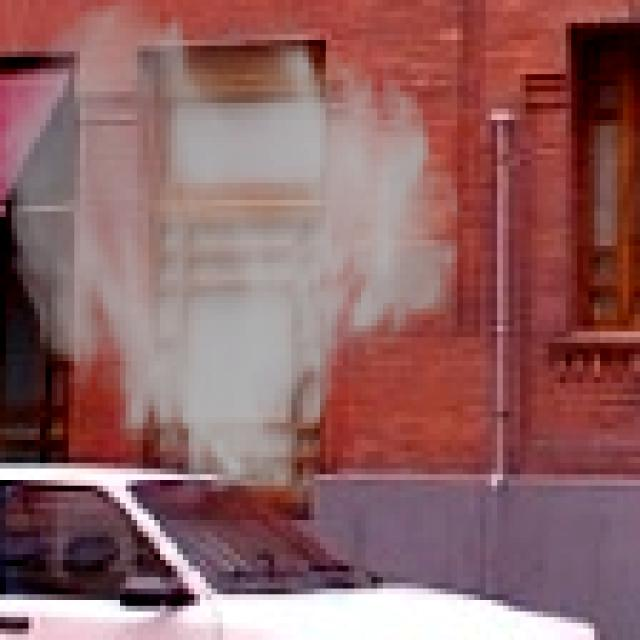smoke: (0, 0, 469, 520)
